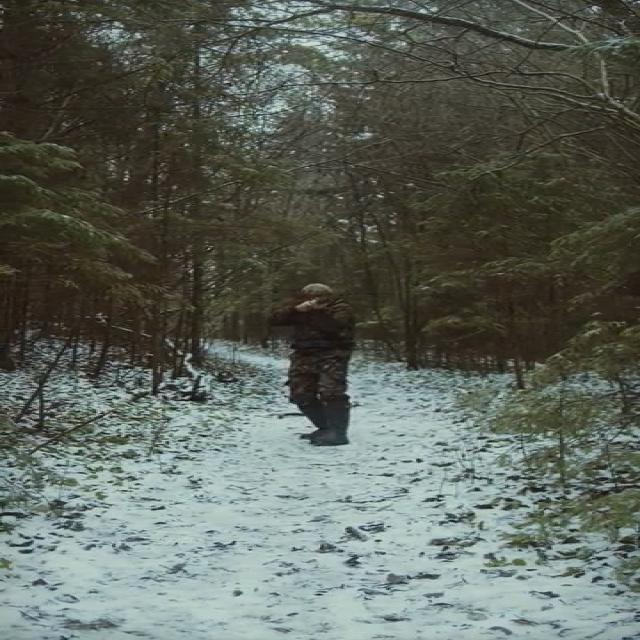Gun_Holder: (288, 297, 330, 312)
Person: (260, 284, 360, 444)
